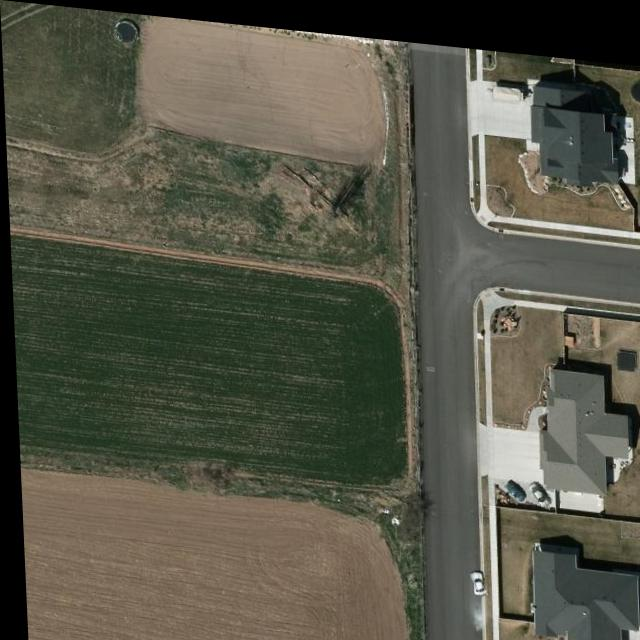vehicle: (522, 469, 550, 499), (500, 471, 522, 492), (466, 561, 481, 588)
